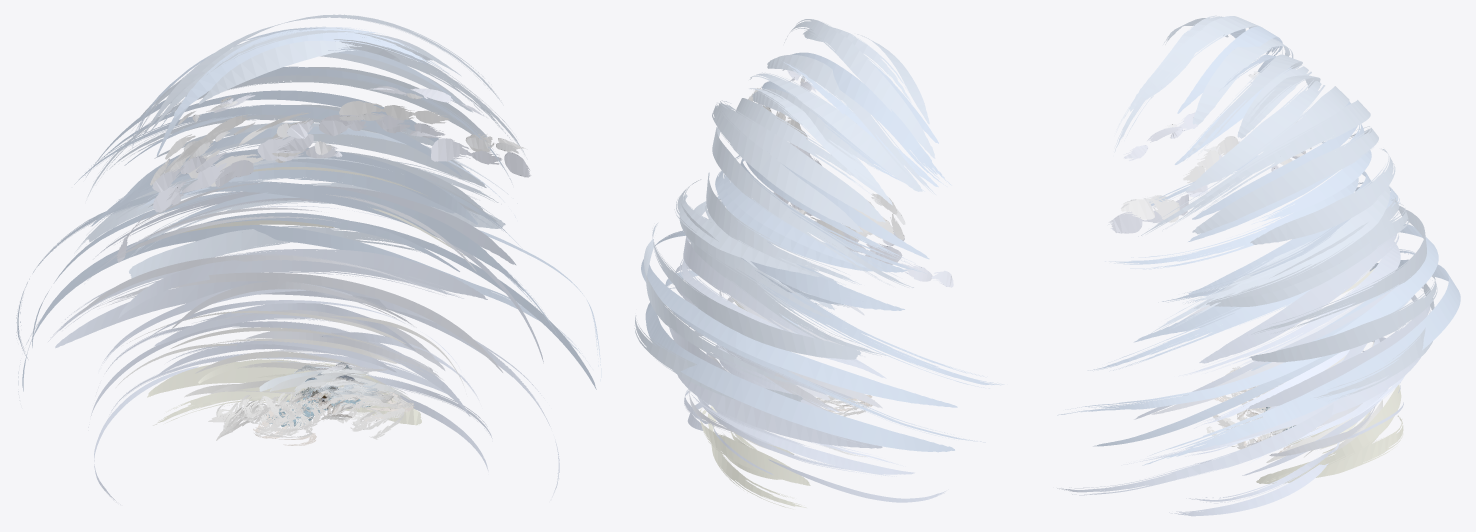
Rendered from wanderer_above_the_sea_of_fog.glb.
The picture shows the model from 3 angles, left to right: view 1: azimuth 30°, elevation 25°; view 2: azimuth 150°, elevation 25°; view 3: azimuth 270°, elevation 25°; orthographic projection. The views are drawn at different scales.
Visible parts, largest first — view 1: Object_4, Object_10; view 2: Object_4, Object_10; view 3: Object_4, Object_10.
Part boxes in pixels (x1,y1,x2,y2): Object_4: [16, 14, 601, 504]; Object_10: [233, 386, 414, 445]; Object_4: [634, 19, 1004, 509]; Object_10: [816, 394, 874, 416]; Object_4: [1057, 15, 1460, 516]; Object_10: [1206, 366, 1293, 452].
Bounding box in the file's own units: 591 × 571 × 502.
4 materials, 4 textured.
